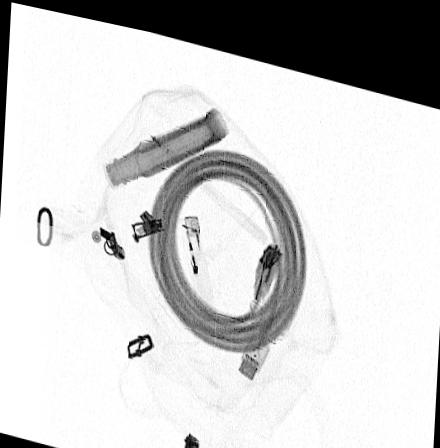Lighter: (177, 207, 215, 312)
